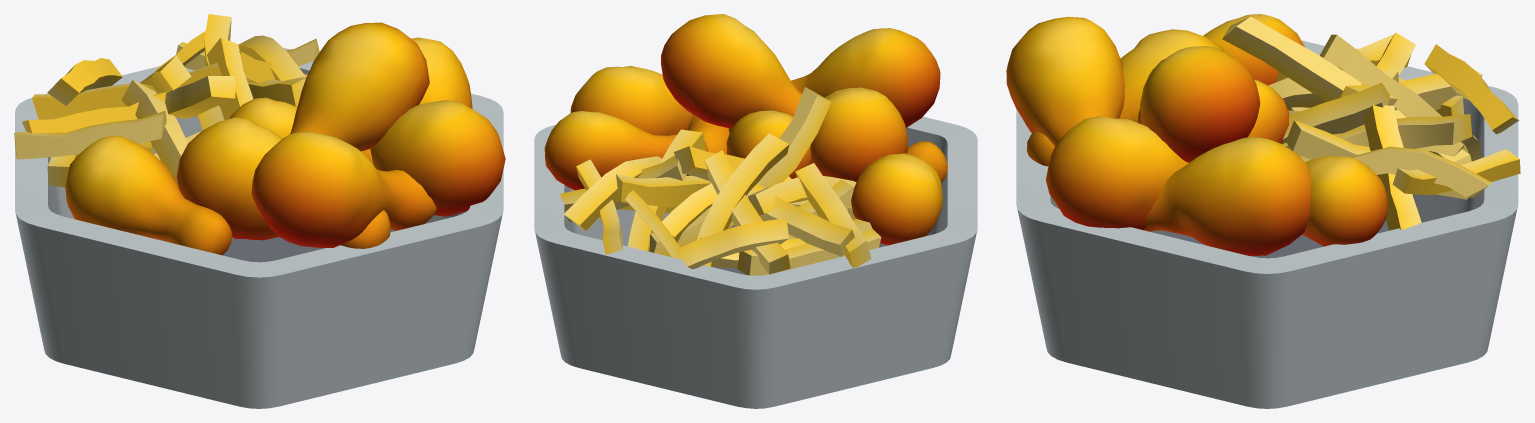
The model's file is Chick_menu.fbx.
3 renders of one model, left to right at view 1: azimuth 30°, elevation 25°; view 2: azimuth 150°, elevation 25°; view 3: azimuth 270°, elevation 25°, orthographic. The views are drawn at different scales.
Parts seen in each view (by area): view 1: Chick_menu; view 2: Chick_menu; view 3: Chick_menu.
Boxes of the visible parts, bbox=[...] form: Chick_menu: bbox=[14, 14, 505, 408]; Chick_menu: bbox=[534, 14, 977, 408]; Chick_menu: bbox=[1006, 14, 1520, 408].
Bounding box in the file's own units: 83.59 × 47.43 × 75.92.
